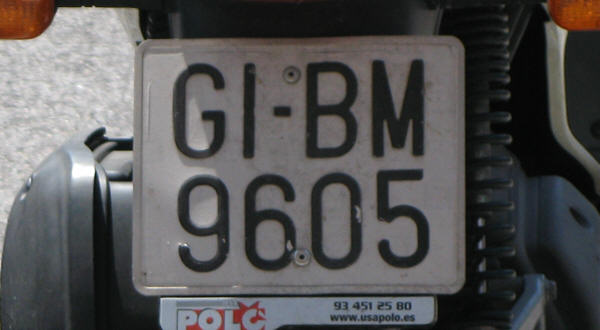license_plate: (134, 37, 465, 294)
